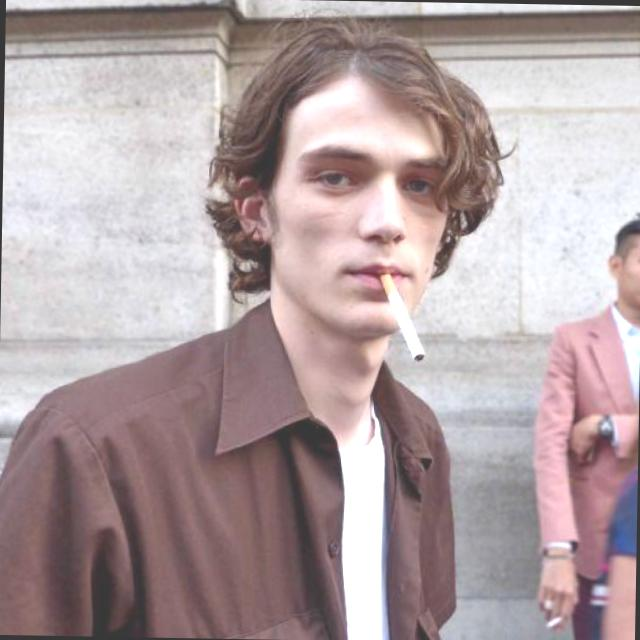smoke: (369, 262, 458, 380), (540, 598, 568, 636)
